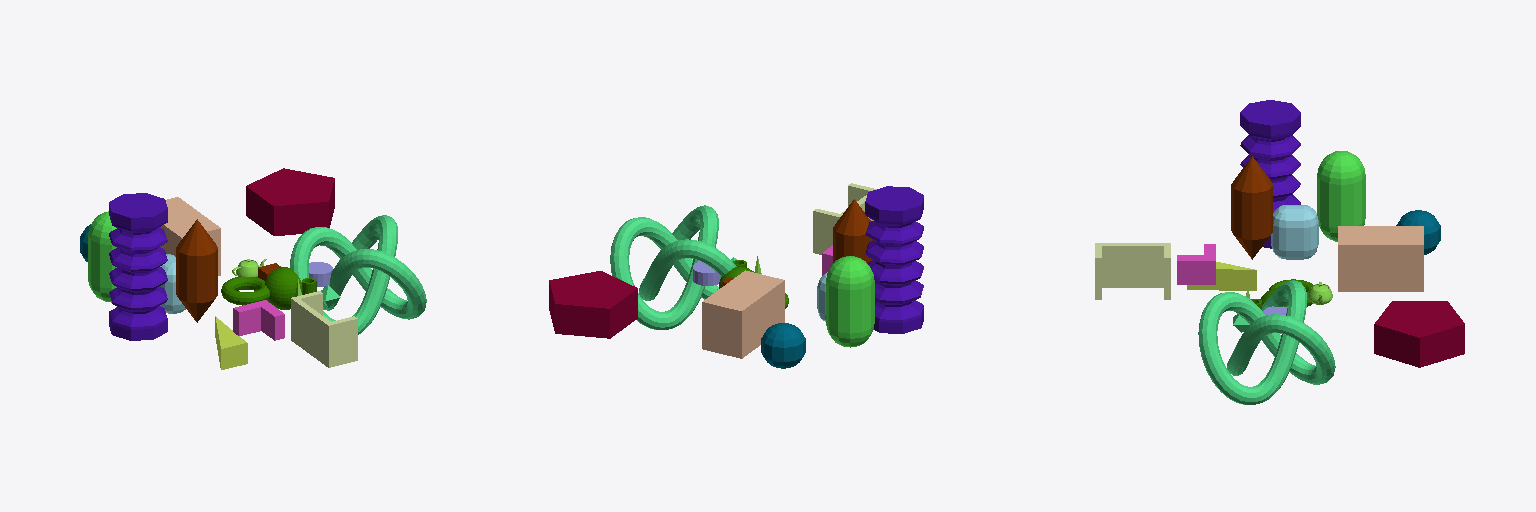
The picture shows the model from 3 angles: view 1: azimuth 30°, elevation 25°; view 2: azimuth 150°, elevation 25°; view 3: azimuth 270°, elevation 25°; orthographic projection.
Parts seen in each view (by area): view 1: Hose001, Torus_Knot001, Gengon001, C_Ext001, Spindle001, Capsule001, ChamferBox001, L_Ext001, Prism001, Torus001, Sphere001, ChamferBox002; view 2: Hose001, Torus_Knot001, ChamferBox001, Gengon001, Capsule001, Spindle001, OilTank001, C_Ext001; view 3: Torus_Knot001, ChamferBox001, Gengon001, Hose001, Capsule001, C_Ext001, Spindle001, ChamferBox002, L_Ext001, Prism001, OilTank001.
Boxes of the visible parts, box(x1,y1,x2,y2) form: Hose001: box(109, 193, 167, 340); Torus_Knot001: box(290, 215, 426, 334); Gengon001: box(246, 168, 334, 235); C_Ext001: box(291, 291, 357, 367); Spindle001: box(176, 219, 217, 322); Capsule001: box(88, 211, 116, 302); ChamferBox001: box(160, 197, 220, 275); L_Ext001: box(233, 300, 284, 340); Prism001: box(215, 316, 247, 369); Torus001: box(221, 276, 269, 305); Sphere001: box(265, 267, 301, 309); ChamferBox002: box(160, 254, 185, 313); Hose001: box(865, 186, 923, 333); Torus_Knot001: box(610, 205, 736, 329); ChamferBox001: box(702, 270, 784, 358); Gengon001: box(549, 271, 637, 338); Capsule001: box(826, 256, 874, 347); Spindle001: box(833, 199, 872, 263); OilTank001: box(761, 323, 805, 368); C_Ext001: box(813, 183, 876, 254); Torus_Knot001: box(1198, 280, 1335, 404); ChamferBox001: box(1338, 226, 1423, 291); Gengon001: box(1374, 301, 1464, 367); Hose001: box(1240, 100, 1300, 248); Capsule001: box(1317, 151, 1365, 241); C_Ext001: box(1095, 243, 1170, 299); Spindle001: box(1231, 156, 1272, 259); ChamferBox002: box(1271, 205, 1318, 259); L_Ext001: box(1177, 244, 1215, 284); Prism001: box(1187, 262, 1256, 290); OilTank001: box(1396, 210, 1440, 254).
Size of the model in its own units: 346 by 186 by 373.